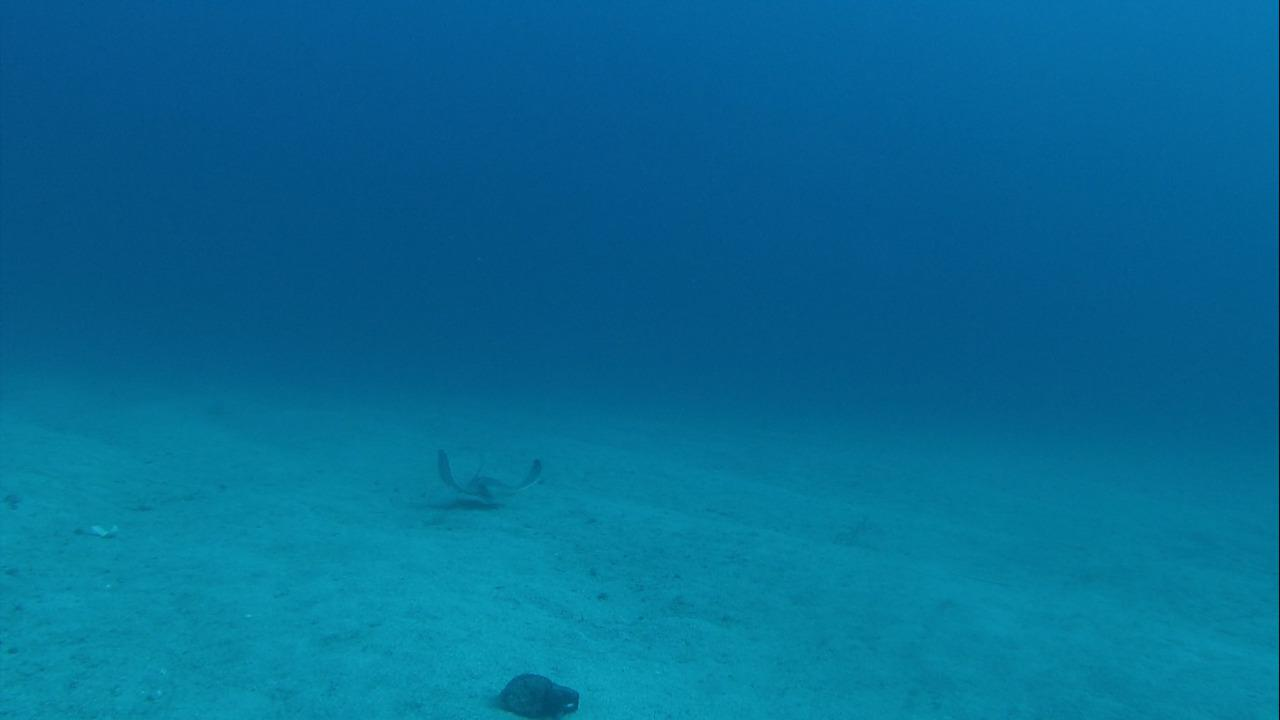myliobatis: (416, 441, 547, 512)
